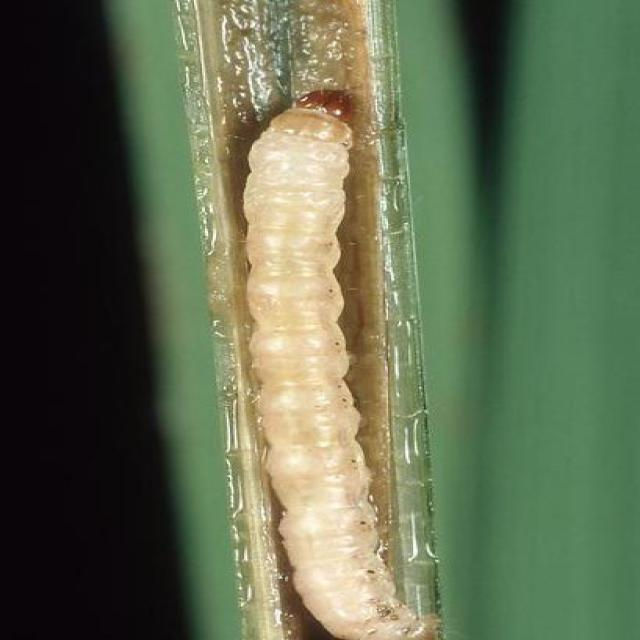yellow-stem-borer-larva: (211, 49, 471, 630)
